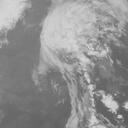cyclone: (38, 19, 89, 74)
